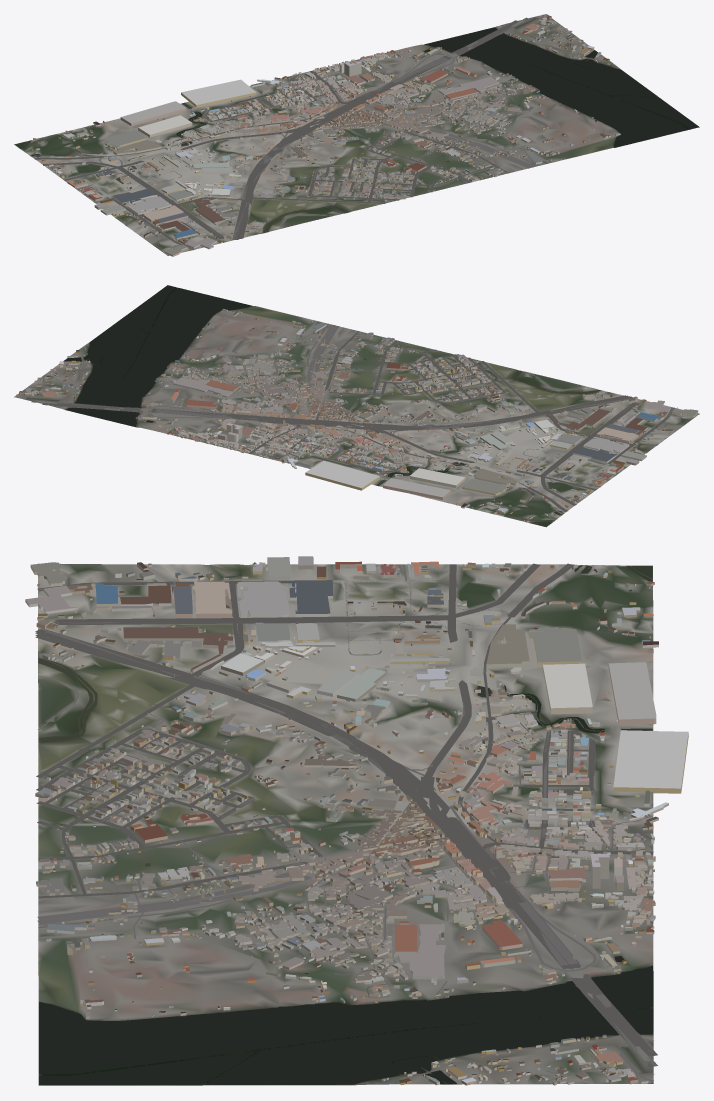
3 views of the same model, one above another, from view 1: azimuth 30°, elevation 25°; view 2: azimuth 150°, elevation 25°; view 3: azimuth 270°, elevation 25° (orthographic). The views are drawn at different scales.
Visible parts, largest first — view 1: ground, buildings, water, roads; view 2: ground, buildings, water, roads; view 3: ground, buildings, water, roads.
Boxes of the visible parts, left/top/right/bottom form: ground: left=14, top=14, right=699, bottom=255; buildings: left=31, top=14, right=620, bottom=256; water: left=14, top=27, right=698, bottom=232; roads: left=34, top=14, right=575, bottom=250; ground: left=14, top=287, right=699, bottom=527; buildings: left=16, top=309, right=698, bottom=522; water: left=63, top=285, right=601, bottom=526; roads: left=17, top=323, right=674, bottom=511; ground: left=38, top=563, right=653, bottom=1085; buildings: left=25, top=556, right=688, bottom=1085; water: left=38, top=565, right=653, bottom=1085; roads: left=35, top=563, right=657, bottom=1084.
Size of the model in its own units: 2828 by 63.01 by 1510.
